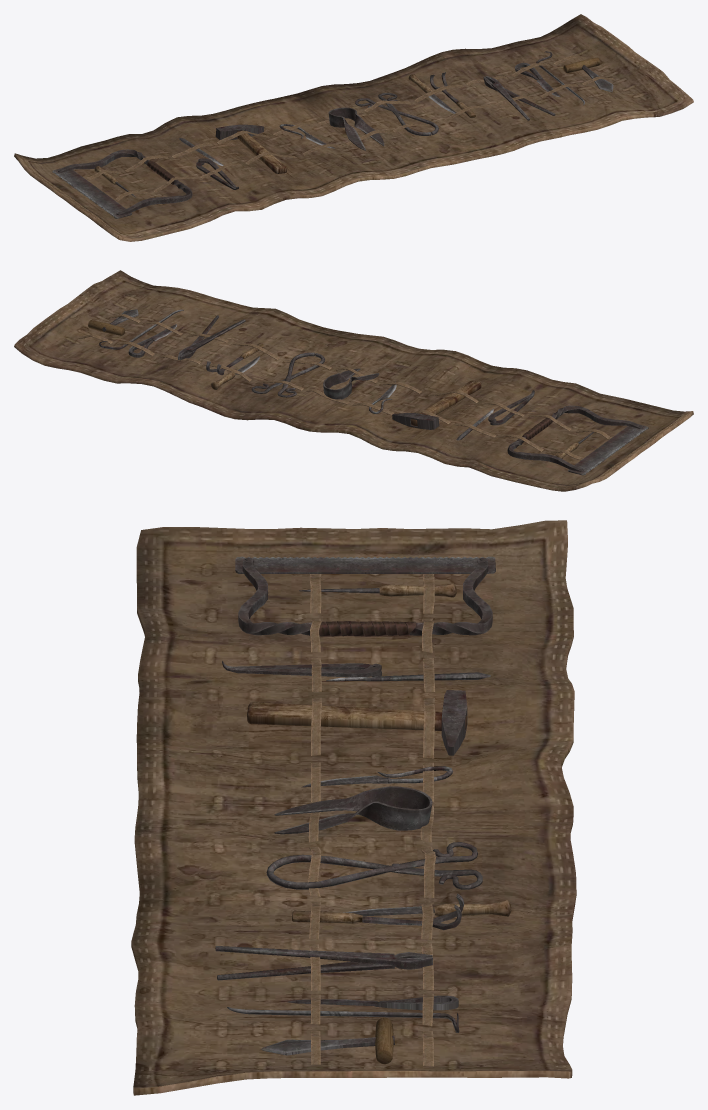
Rendered from tool-roll.glb.
The picture shows the model from 3 angles, top to bottom: view 1: azimuth 30°, elevation 25°; view 2: azimuth 150°, elevation 25°; view 3: azimuth 270°, elevation 25°; orthographic projection. The views are drawn at different scales.
Visible parts, largest first — view 1: tortureTool_tortureTools_0; view 2: tortureTool_tortureTools_0; view 3: tortureTool_tortureTools_0.
Part boxes in pixels (x1,y1,x2,y2): tortureTool_tortureTools_0: (14, 14, 693, 241); tortureTool_tortureTools_0: (14, 270, 693, 491); tortureTool_tortureTools_0: (131, 520, 576, 1095).
Bounding box in the file's own units: 407 × 14.97 × 137.
1 material, 1 textured.
